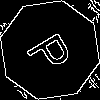P: (25, 25, 81, 78)
